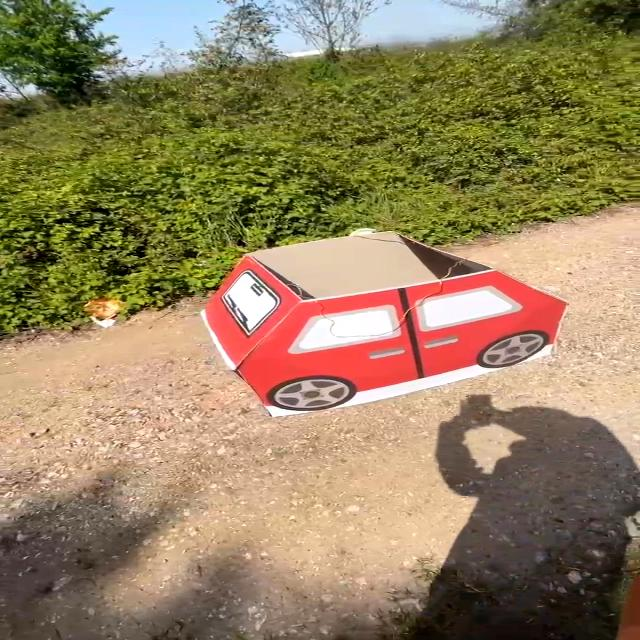red_car: (176, 226, 593, 420)
